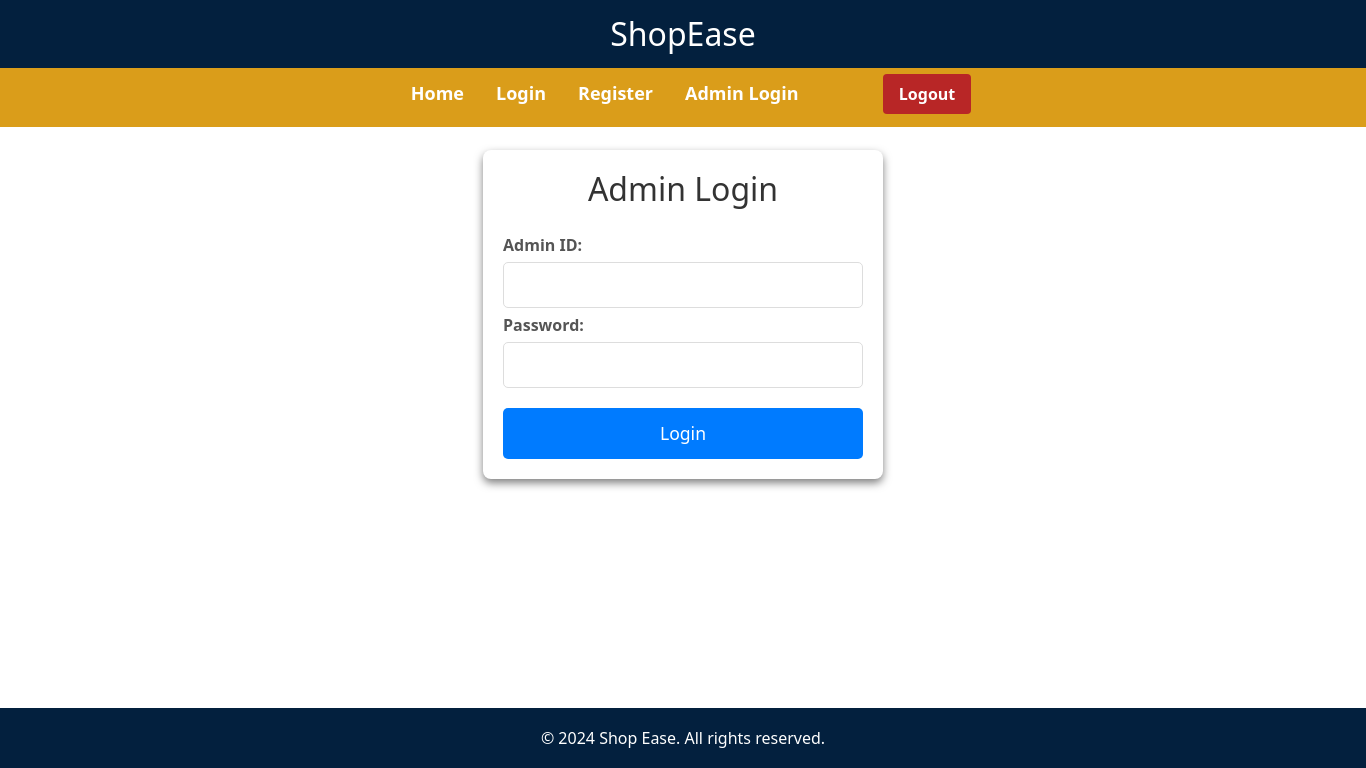
Test: Admin Login › should show error for invalid credentials
Type "invalidId" into the field with id "adminId" at (683, 285), box [503,262,863,308]
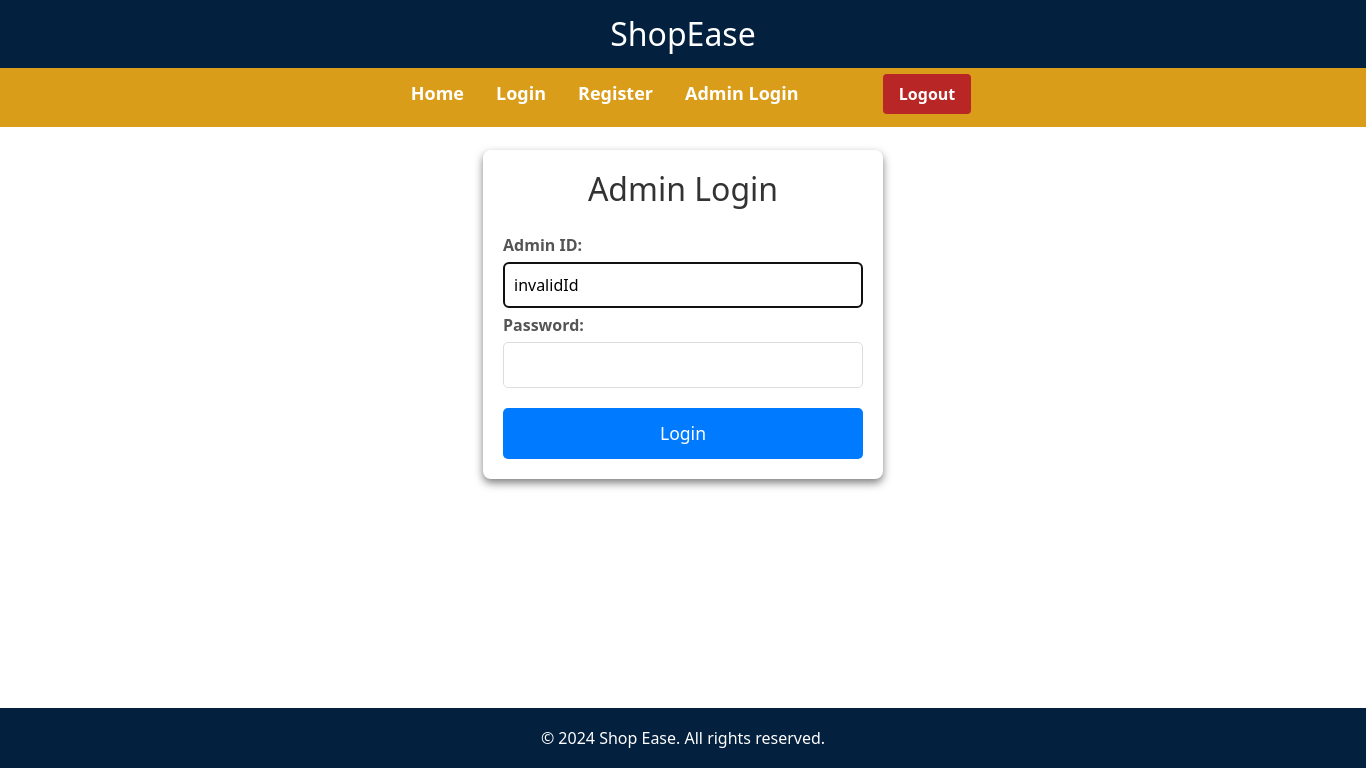
Type "invalidPassword" into the password field labelled "Password:" at (683, 365), box [503,342,863,388]
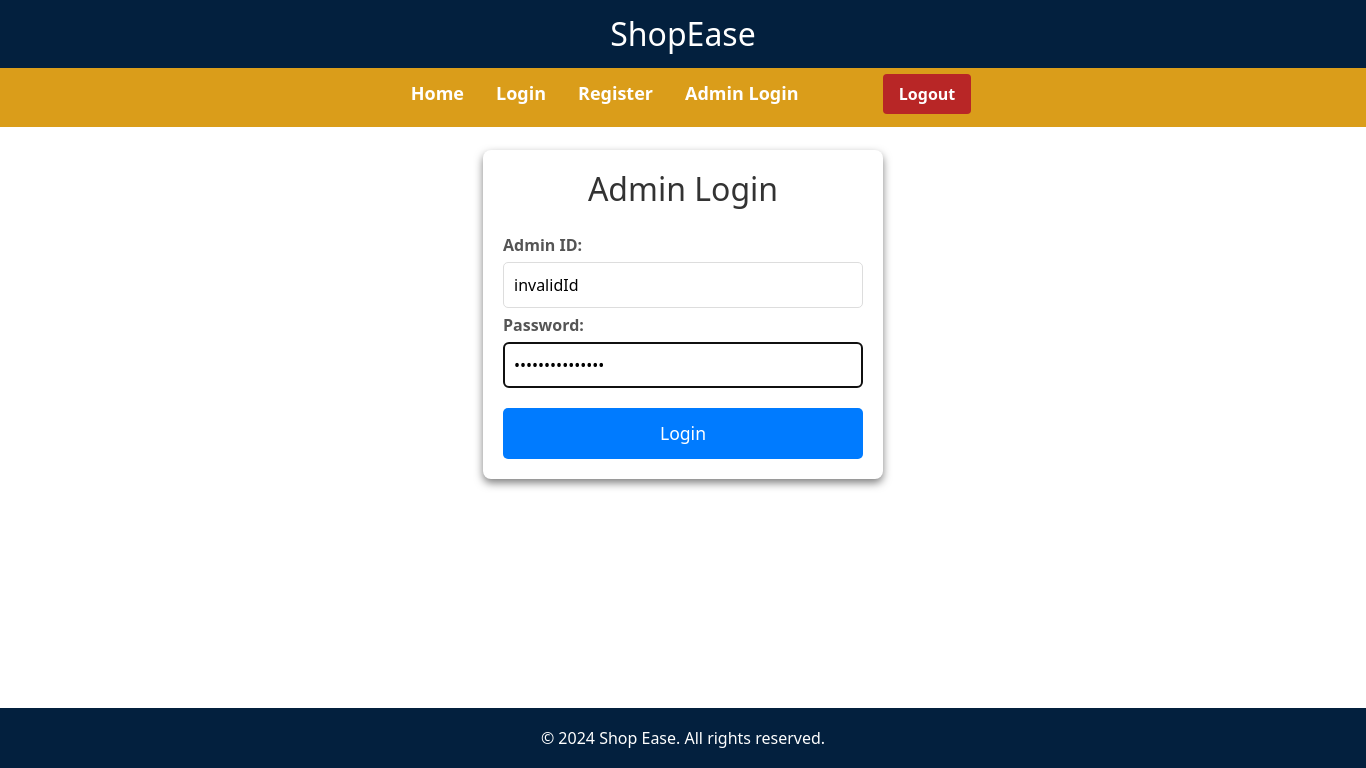
Click the submit button at (683, 433), box [503,408,863,458]
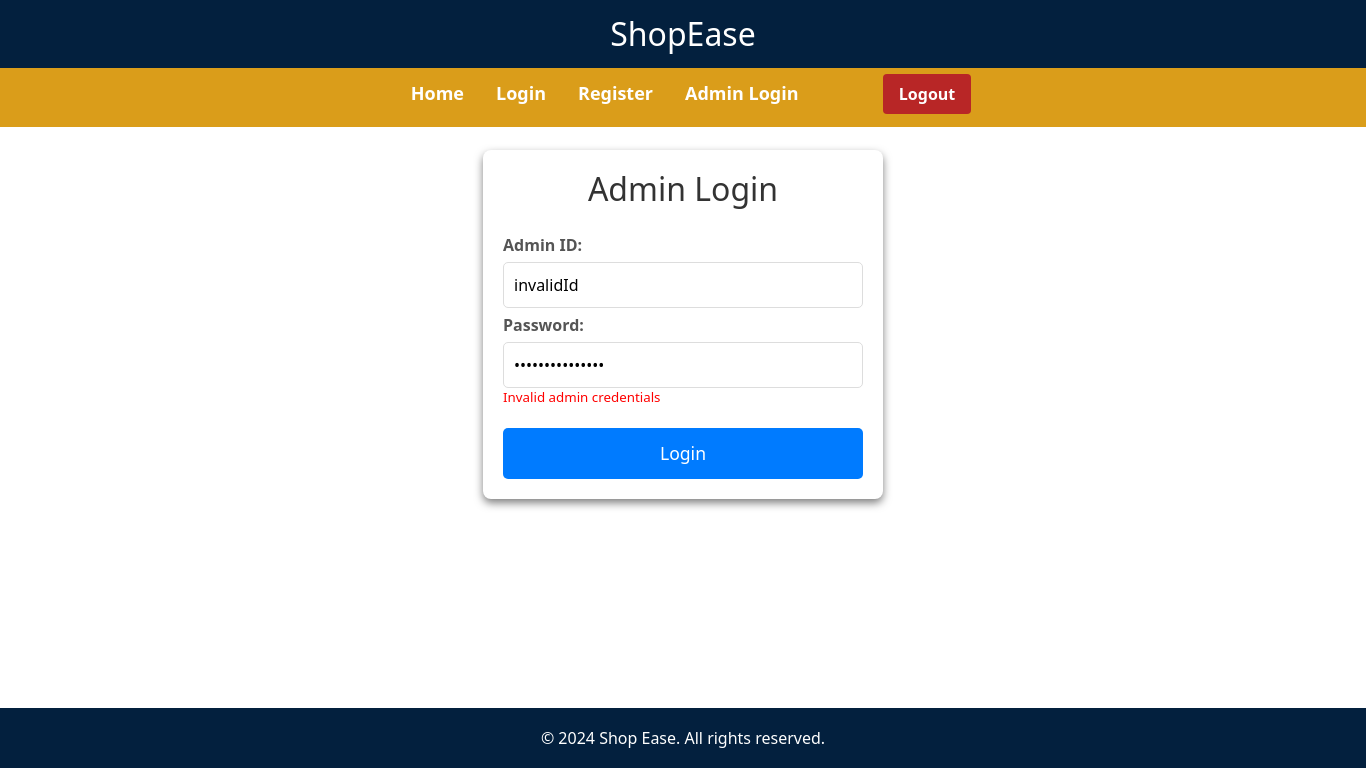
Now the text with class "error-message" reads "Invalid admin credentials", box [503,388,660,406]
